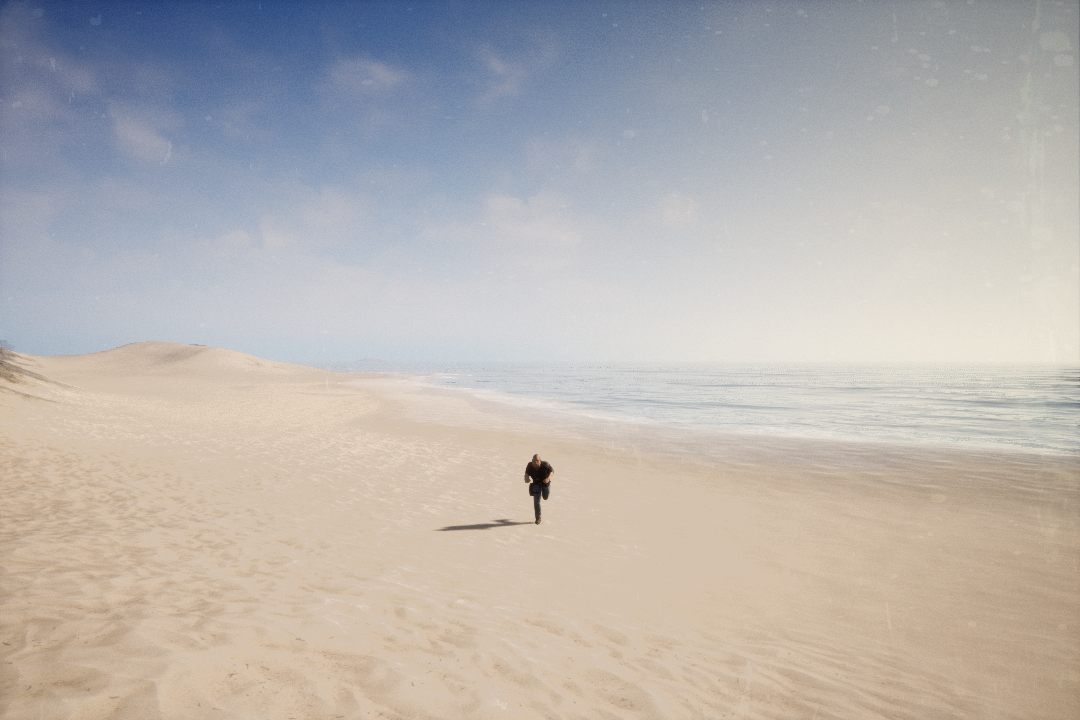person: (516, 454, 562, 525)
